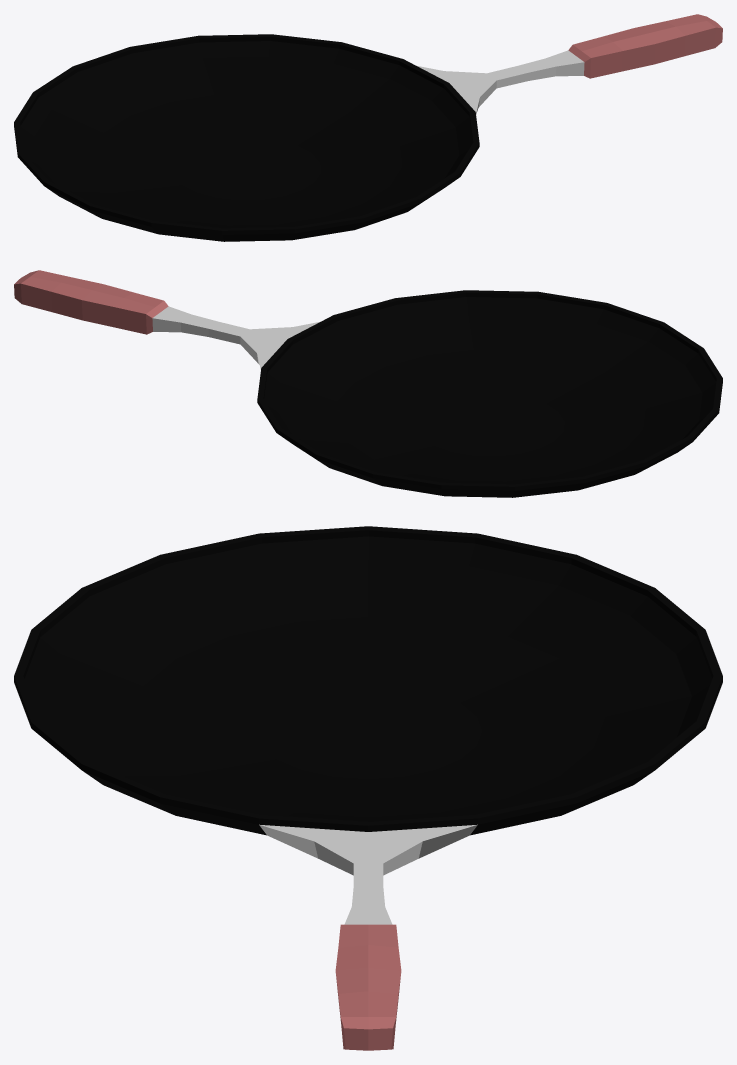
File: Pan.fbx
3 views of the same model, one above another, from view 1: azimuth 30°, elevation 25°; view 2: azimuth 150°, elevation 25°; view 3: azimuth 270°, elevation 25° (orthographic). The views are drawn at different scales.
Parts seen in each view (by area): view 1: Pan; view 2: Pan; view 3: Pan.
Part boxes in pixels (x1,y1,x2,y2): Pan: (14, 14, 722, 241); Pan: (14, 270, 722, 497); Pan: (14, 526, 722, 1050).
Bounding box in the file's own units: 49.72 × 3.04 × 29.98.
